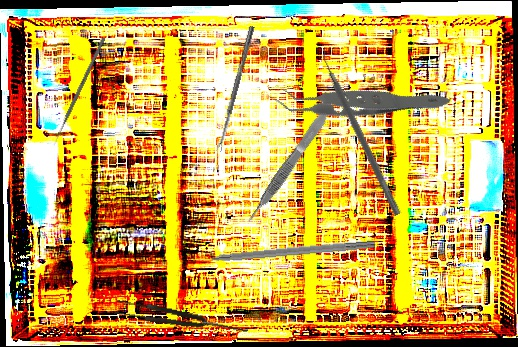Hook Surgical: (187, 237, 376, 266)
Pusher: (51, 37, 106, 147)
Spatula Surgical: (315, 46, 408, 217)
Surgical Spoon: (215, 25, 255, 153)
Tissue Forceps: (264, 16, 452, 180), (242, 110, 332, 225), (114, 297, 249, 341)
